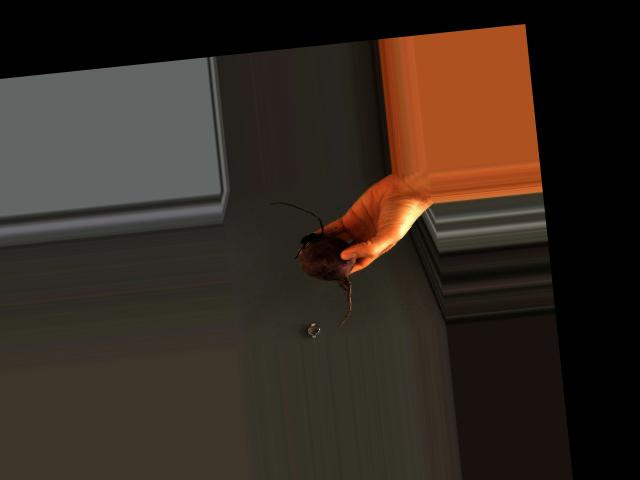beet: (269, 194, 362, 331)
